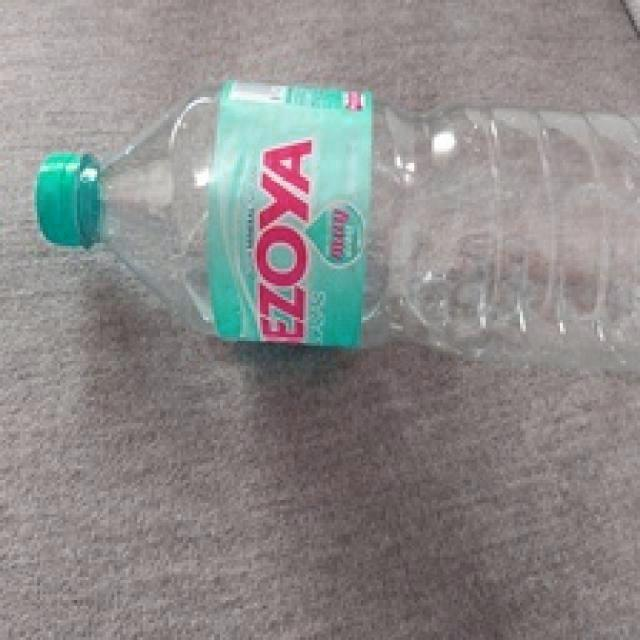bottle: (33, 81, 639, 373)
